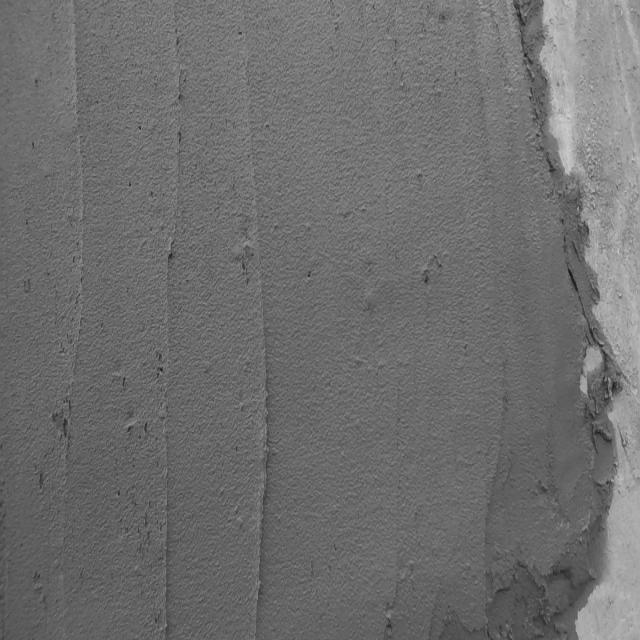trowels marks: (65, 8, 87, 428), (256, 263, 270, 640), (160, 438, 179, 634)
